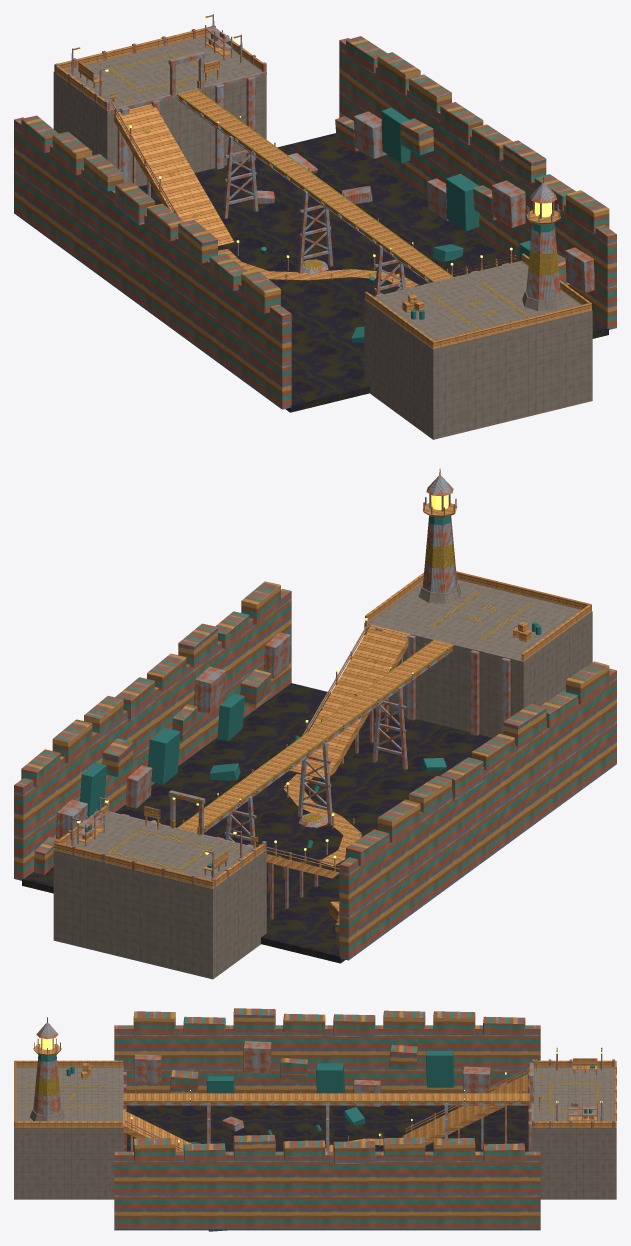
The model's file is level-1-puente.glb.
The picture shows the model from 3 angles, top to bottom: view 1: azimuth 30°, elevation 25°; view 2: azimuth 150°, elevation 25°; view 3: azimuth 270°, elevation 25°; orthographic projection. The views are drawn at different scales.
Visible parts, largest first — view 1: L1_strata, L1_deck, L1_oil, L1_wood, L1_rust, L1_teal, L1_hazard; view 2: L1_strata, L1_deck, L1_oil, L1_wood, L1_rust, L1_teal, L1_hazard; view 3: L1_strata, L1_deck, L1_oil, L1_wood, L1_rust, L1_teal, L1_hazard.
Boxes of the visible parts, x1,y1,x2,y2 form: L1_strata: [14, 36, 616, 409]; L1_deck: [53, 36, 592, 439]; L1_oil: [138, 133, 608, 412]; L1_wood: [54, 26, 591, 348]; L1_rust: [54, 14, 594, 326]; L1_teal: [211, 33, 554, 342]; L1_hazard: [108, 51, 558, 329]; L1_strata: [14, 581, 616, 960]; L1_deck: [53, 579, 592, 979]; L1_oil: [22, 683, 492, 963]; L1_wood: [54, 502, 591, 922]; L1_rust: [54, 475, 510, 919]; L1_teal: [80, 515, 541, 868]; L1_hazard: [108, 468, 530, 870]; L1_strata: [114, 1008, 540, 1229]; L1_deck: [14, 1066, 616, 1199]; L1_oil: [114, 1105, 540, 1230]; L1_wood: [14, 1044, 616, 1151]; L1_rust: [33, 1022, 616, 1151]; L1_teal: [38, 1051, 594, 1231]; L1_hazard: [26, 1017, 598, 1151].
Size of the model in its own units: 51.92 by 31.46 by 99.03.
Materials: 8 (6 with a texture image).
